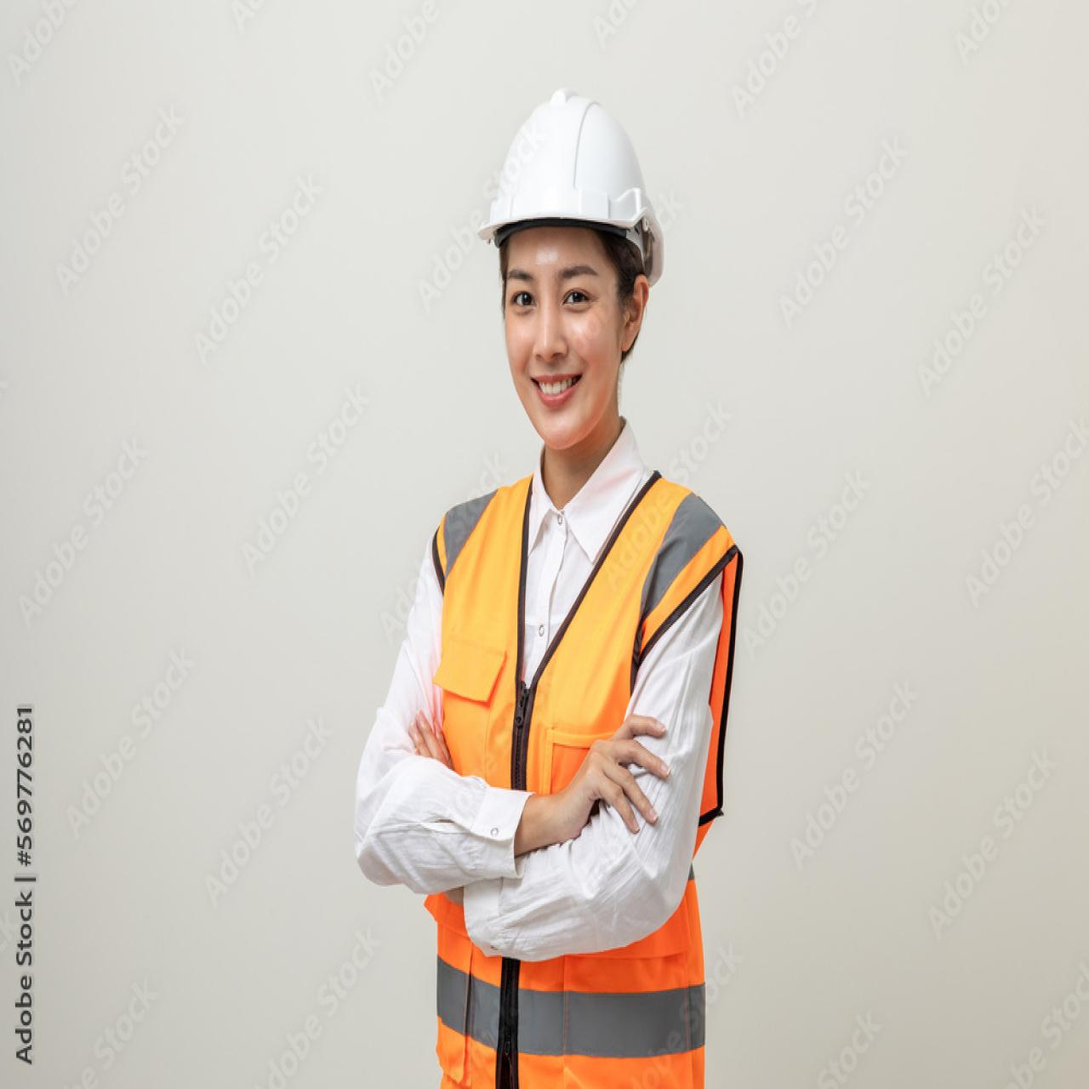Person: (329, 78, 770, 1089)
Safety_Vest: (405, 453, 731, 1089)
